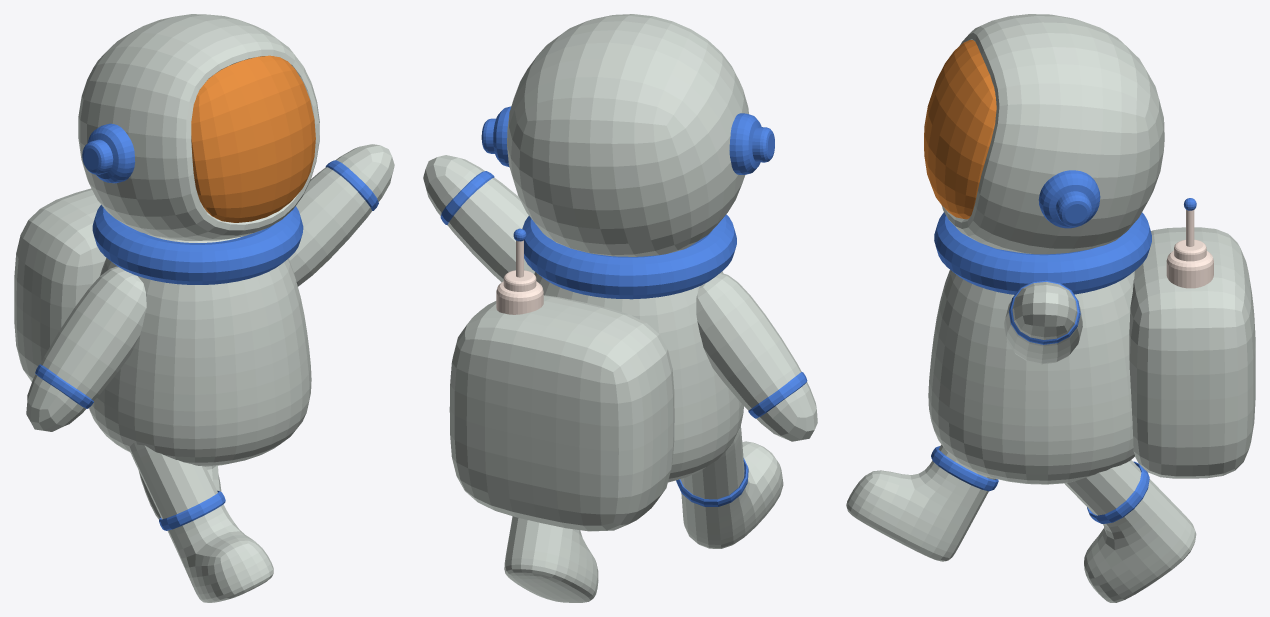
Rendered from spaceman_smoother.gltf.
The picture shows the model from 3 angles, left to right: view 1: azimuth 30°, elevation 25°; view 2: azimuth 150°, elevation 25°; view 3: azimuth 270°, elevation 25°; orthographic projection. The views are drawn at different scales.
Visible parts, largest first — view 1: Cube.002, Cube, Cube.001, Cube.007, Cube.009, Cube.011, Torus, Cube.005, Cylinder.001, Cube.012, Cube.010, Cube.006; view 2: Cube, Cube.007, Cube.002, Cube.009, Torus, Cube.011, Cube.005, Cube.003, Cylinder.001, Cylinder, Cube.010, Cube.006 (+1 smaller); view 3: Cube, Cube.002, Cube.007, Cube.003, Cube.001, Cube.011, Torus, Cube.005, Cylinder.001, Cylinder, Cube.012, Cube.004 (+1 smaller).
Boxes of the visible parts, bbox=[...] form: Cube.002: bbox=[89, 233, 311, 466]; Cube: bbox=[78, 14, 319, 240]; Cube.001: bbox=[191, 55, 315, 222]; Cube.007: bbox=[14, 188, 106, 408]; Cube.009: bbox=[26, 266, 146, 431]; Cube.011: bbox=[129, 443, 273, 602]; Torus: bbox=[92, 205, 303, 284]; Cube.005: bbox=[288, 144, 394, 286]; Cylinder.001: bbox=[82, 123, 135, 183]; Cube.012: bbox=[159, 490, 225, 530]; Cube.010: bbox=[35, 364, 93, 408]; Cube.006: bbox=[325, 160, 378, 210]; Cube: bbox=[507, 14, 748, 256]; Cube.007: bbox=[449, 295, 674, 531]; Cube.002: bbox=[534, 271, 743, 482]; Cube.009: bbox=[696, 273, 817, 441]; Torus: bbox=[522, 214, 736, 299]; Cube.011: bbox=[680, 425, 783, 548]; Cube.005: bbox=[423, 155, 534, 282]; Cube.003: bbox=[504, 516, 598, 602]; Cylinder.001: bbox=[481, 106, 774, 174]; Cylinder: bbox=[496, 240, 543, 314]; Cube.010: bbox=[748, 372, 807, 418]; Cube.006: bbox=[440, 171, 494, 225]; Cube: bbox=[941, 14, 1164, 254]; Cube.002: bbox=[928, 270, 1134, 484]; Cube.007: bbox=[1129, 227, 1255, 478]; Cube.003: bbox=[1064, 460, 1196, 602]; Cube.001: bbox=[924, 40, 996, 219]; Cube.011: bbox=[846, 444, 995, 561]; Torus: bbox=[934, 212, 1151, 294]; Cube.005: bbox=[1004, 282, 1082, 364]; Cylinder.001: bbox=[1038, 170, 1100, 228]; Cylinder: bbox=[1166, 210, 1213, 288]; Cube.012: bbox=[931, 446, 998, 491]; Cube.004: bbox=[1087, 461, 1149, 523].
Size of the model in its own units: 2.63 by 3.66 by 2.44.
